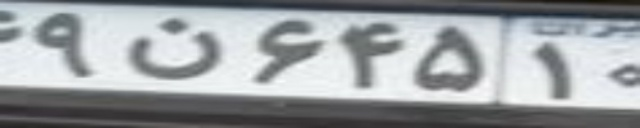0: (599, 64, 638, 86)
1: (531, 42, 573, 100)
4: (338, 21, 403, 87)
5: (415, 27, 482, 90)
6: (248, 18, 322, 82)
9: (32, 11, 88, 79)
non: (127, 19, 221, 79)
